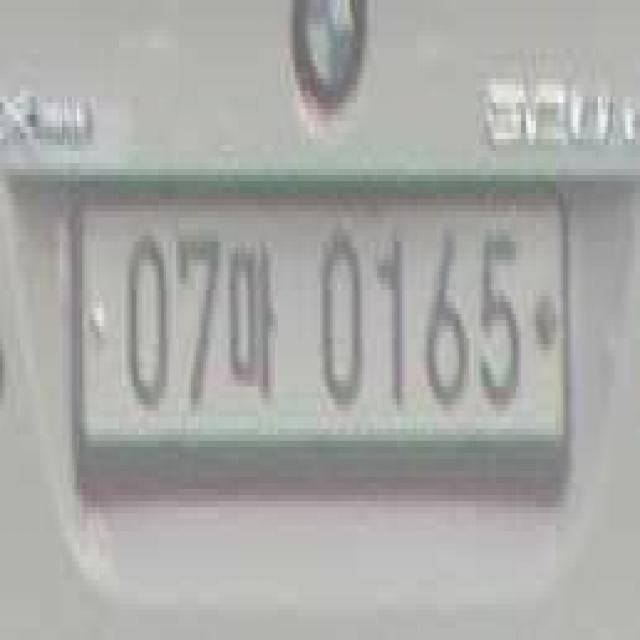illegal_plate: (78, 156, 572, 512)
